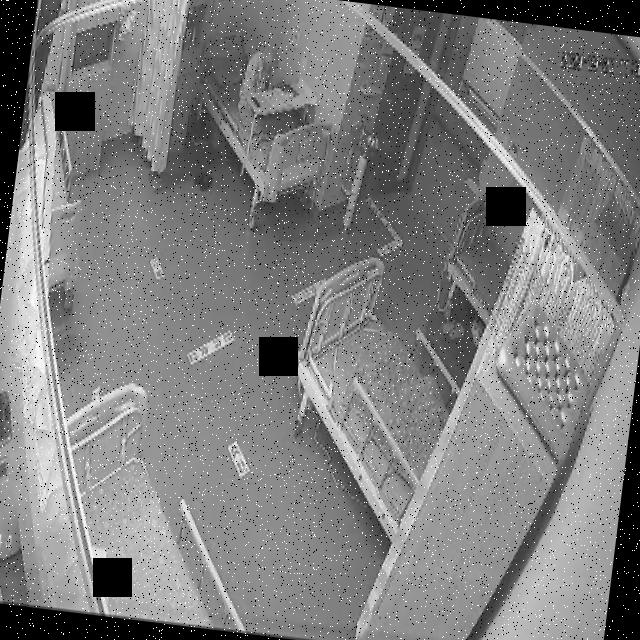bed: (42, 373, 273, 633), (279, 252, 465, 542), (184, 29, 340, 208), (438, 192, 518, 328)
patient: (236, 41, 280, 119)
sit: (234, 40, 282, 120)
